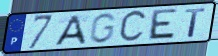7: (28, 14, 56, 51)
A: (52, 14, 87, 47)
C: (117, 8, 149, 45)
E: (146, 8, 179, 41)
G: (88, 12, 119, 45)
T: (183, 7, 207, 39)
